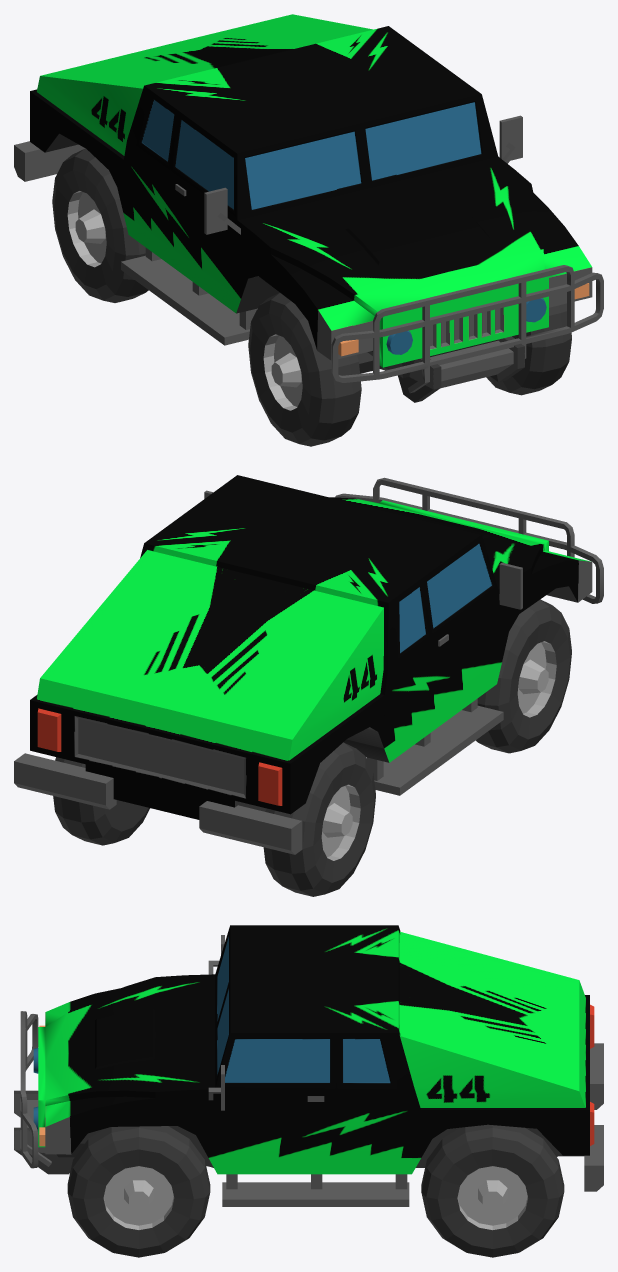
Rendered from greenblack.fbx.
3 renders of one model, top to bottom at view 1: azimuth 30°, elevation 25°; view 2: azimuth 150°, elevation 25°; view 3: azimuth 270°, elevation 25°, orthographic. The views are drawn at different scales.
Visible parts, largest first — view 1: body, bodypart_up, wheel_FR, wheel_RR, wheel_FL, bodypart_right, bodypart_down; view 2: body, bodypart_up, bodypart_down, wheel_RR, wheel_FR, wheel_RL, bodypart_right; view 3: body, bodypart_up, wheel_RL, wheel_FL, bodypart_down, bodypart_left.
Boxes of the visible parts, x1,y1,x2,y2 form: body: [121, 26, 603, 402]; bodypart_up: [36, 14, 372, 155]; wheel_FR: [248, 292, 361, 446]; wheel_RR: [52, 148, 148, 302]; wheel_FL: [486, 303, 571, 395]; bodypart_right: [45, 101, 124, 211]; bodypart_down: [14, 89, 85, 181]; body: [140, 475, 603, 811]; bodypart_up: [37, 550, 383, 760]; bodypart_down: [14, 695, 305, 854]; wheel_RR: [263, 742, 375, 896]; wheel_FR: [476, 599, 571, 753]; wheel_RL: [53, 757, 149, 845]; bodypart_right: [302, 694, 384, 802]; body: [14, 925, 558, 1206]; bodypart_up: [399, 932, 585, 1107]; wheel_RL: [421, 1124, 564, 1257]; wheel_FL: [67, 1126, 210, 1257]; bodypart_down: [558, 995, 603, 1191]; bodypart_left: [420, 1108, 562, 1157].
Size of the model in its own units: 313 by 238 by 560.
